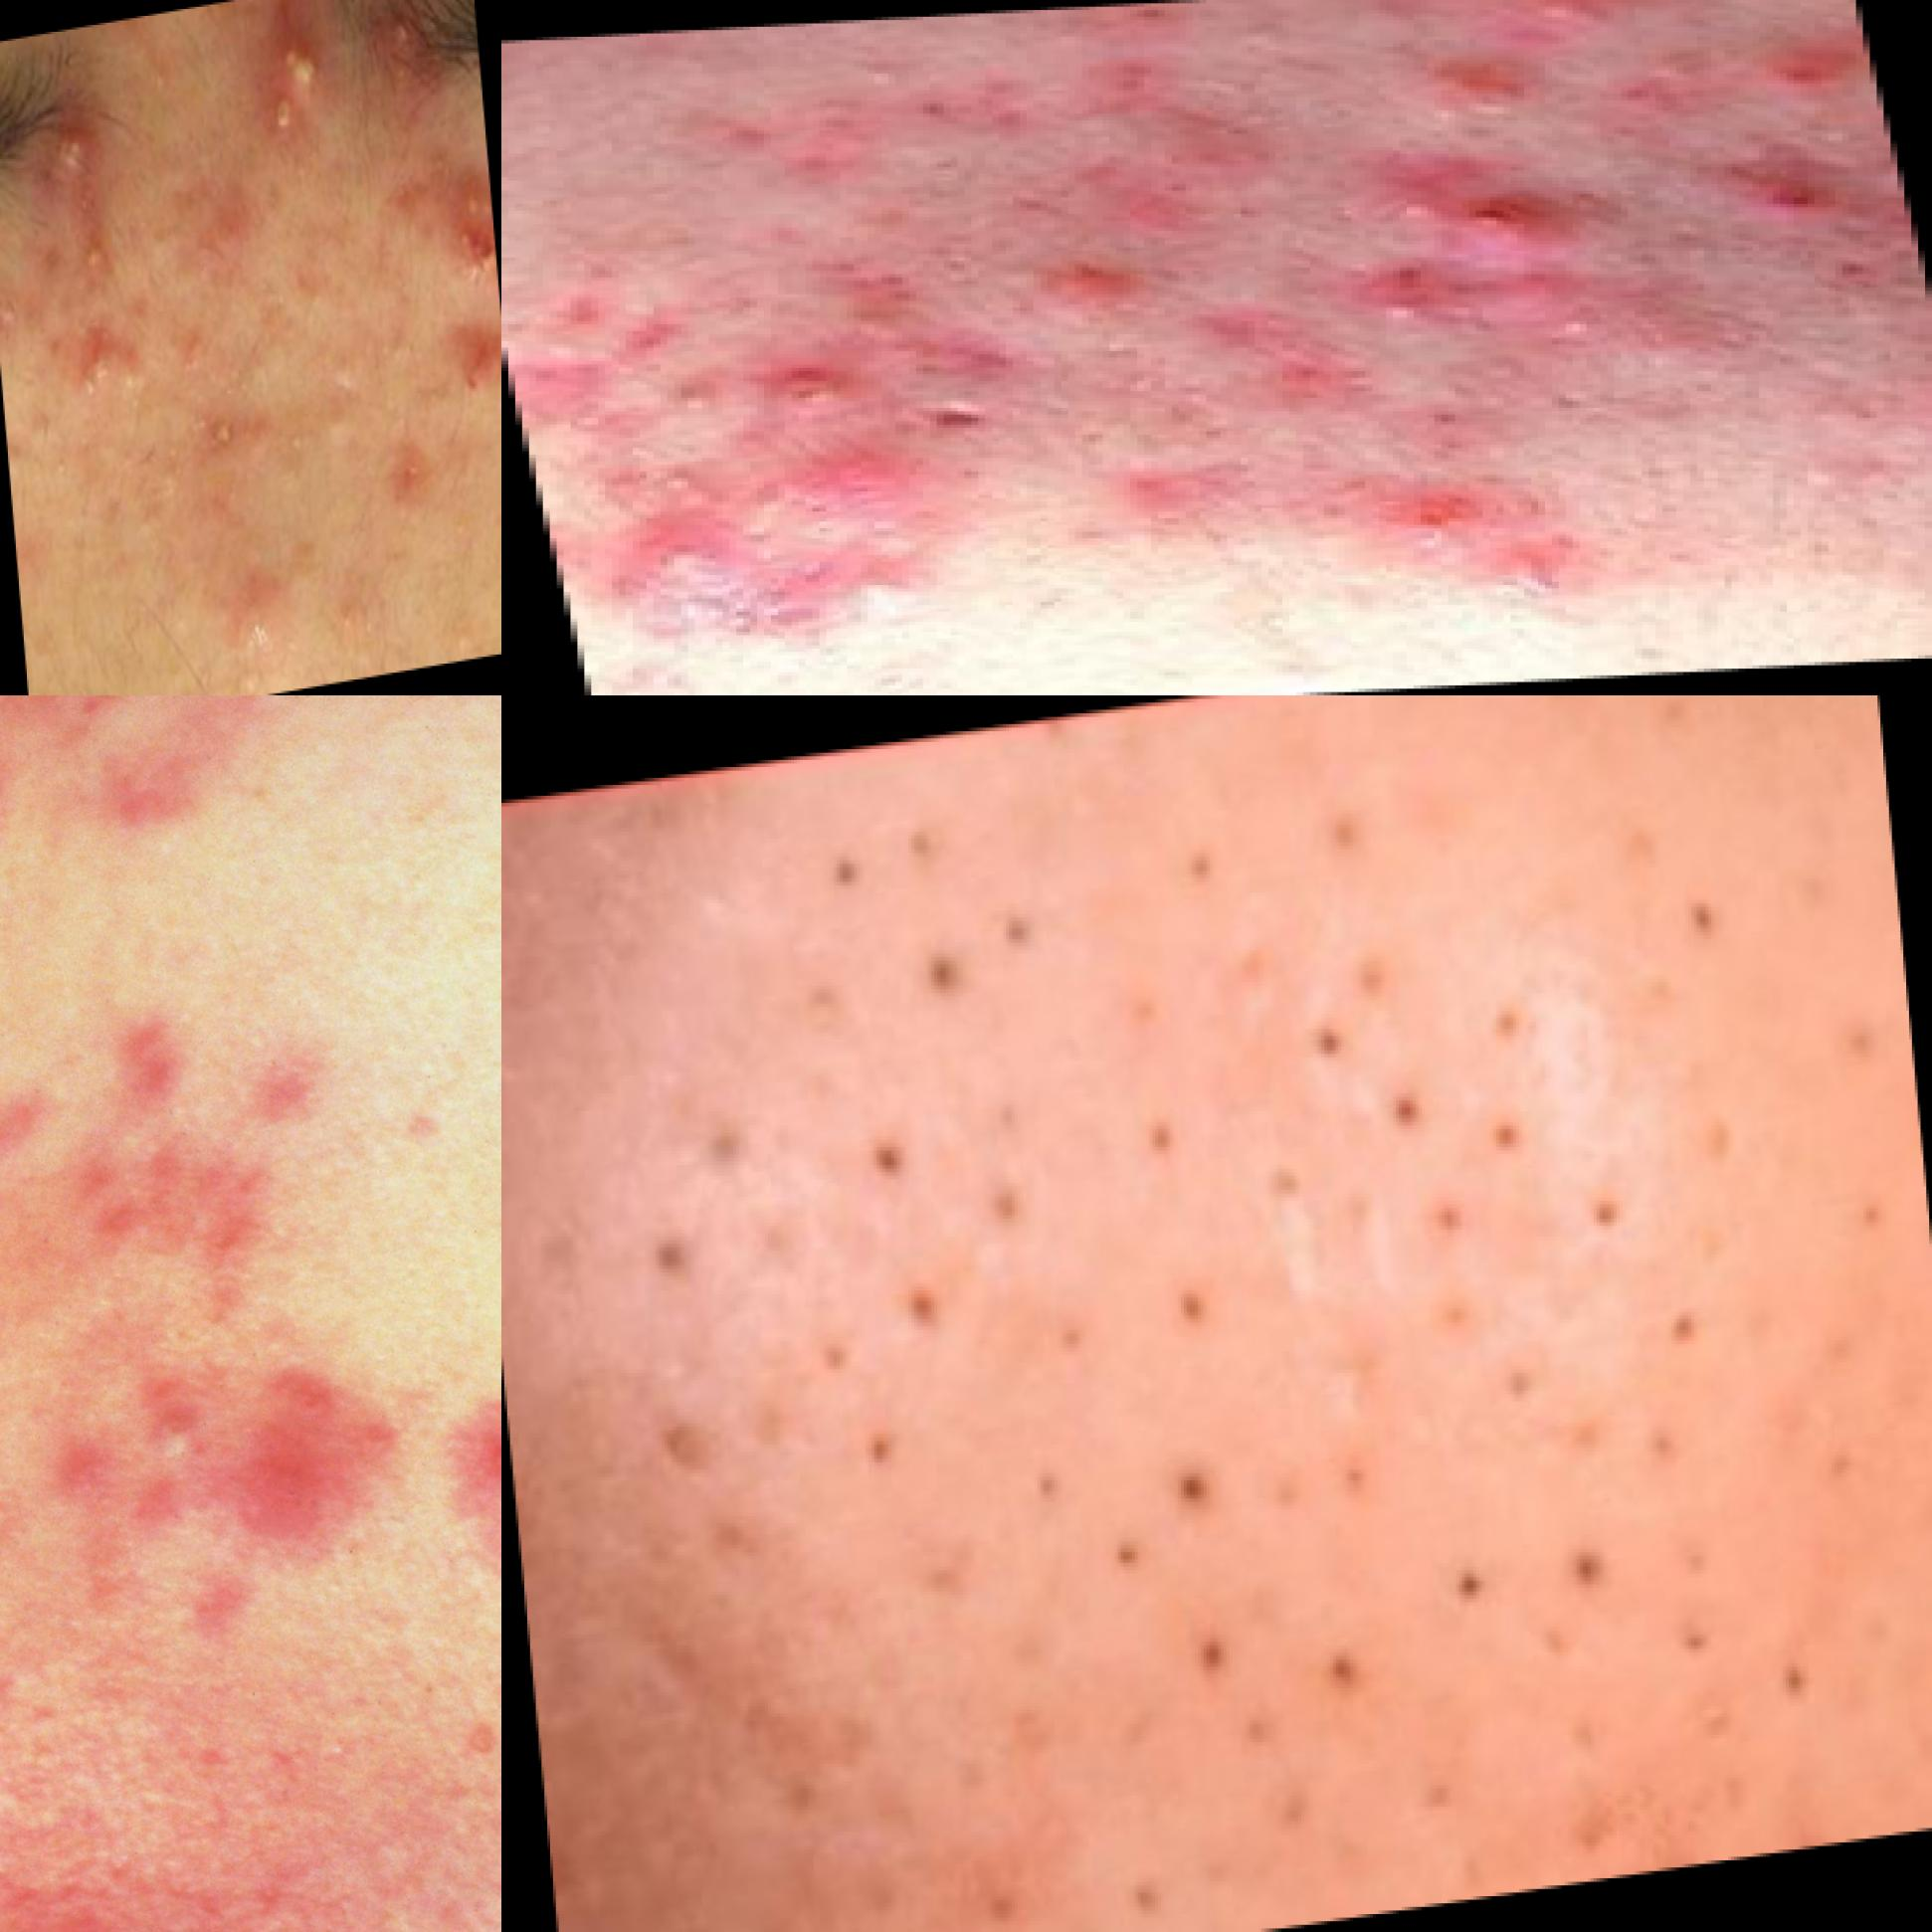blackhead: (1507, 1451, 1861, 1785), (1217, 927, 1550, 1138), (1341, 1017, 1568, 1297), (782, 1256, 985, 1491), (1585, 1281, 1757, 1499), (881, 874, 1076, 1042), (1401, 1506, 1536, 1684), (1122, 801, 1263, 961), (816, 1081, 961, 1235), (1145, 1578, 1272, 1736), (1281, 1606, 1410, 1743), (1136, 1422, 1254, 1548), (1136, 1253, 1244, 1378), (1108, 1076, 1214, 1191), (1665, 858, 1762, 980), (973, 1148, 1060, 1267)
papular: (396, 1357, 502, 1585), (1391, 154, 1576, 260), (1362, 458, 1522, 557), (1698, 156, 1884, 235), (971, 258, 1159, 334), (600, 506, 757, 593), (803, 421, 934, 504), (2, 734, 35, 883), (453, 347, 501, 428), (226, 568, 272, 648)
purulent: (692, 340, 879, 423), (106, 1378, 242, 1486), (253, 96, 317, 159), (71, 225, 119, 297), (382, 2, 432, 62)
sebo-crystan-conglo: (444, 165, 499, 315), (258, 7, 340, 103), (46, 117, 106, 214), (198, 398, 242, 476)
whitehead: (304, 322, 372, 465), (65, 331, 150, 419)
